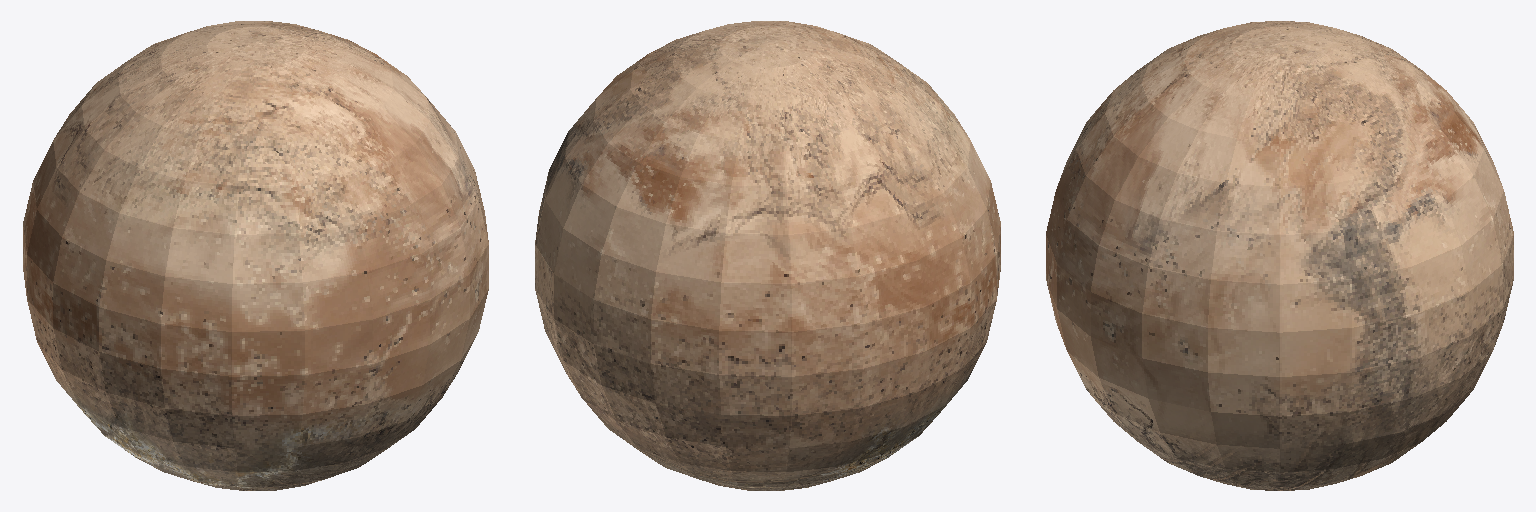
The picture shows the model from 3 angles: view 1: azimuth 30°, elevation 25°; view 2: azimuth 150°, elevation 25°; view 3: azimuth 270°, elevation 25°; orthographic projection.
Bounding box in the file's own units: 1.99 × 2 × 1.99.
1 materials, 1 textured.